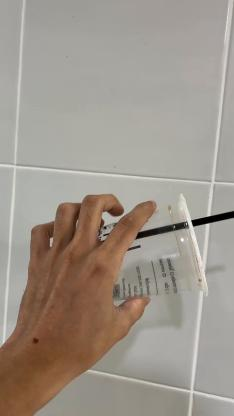Plastic Cup: (103, 194, 209, 300)
